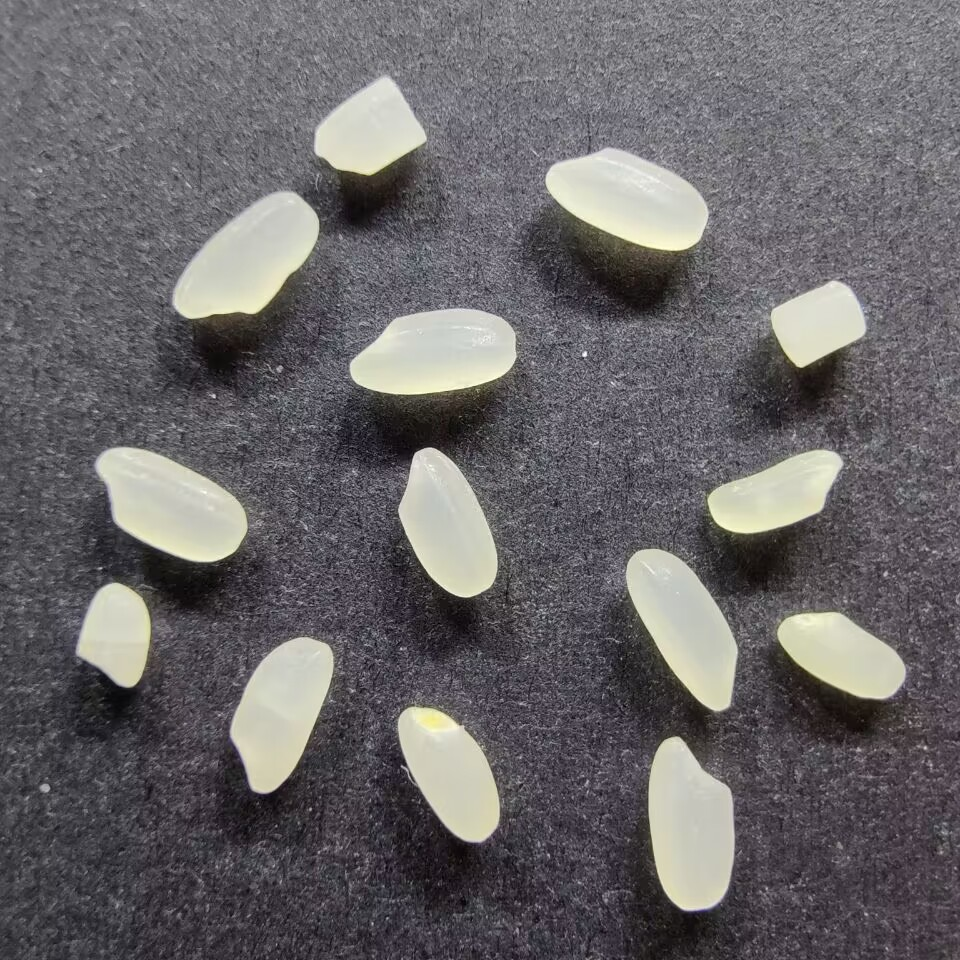broken: (311, 73, 428, 178), (768, 279, 869, 369), (74, 581, 151, 689)
rice: (623, 547, 741, 713), (171, 189, 320, 320), (94, 445, 248, 564), (226, 634, 335, 795), (543, 146, 708, 252), (645, 734, 737, 913), (394, 446, 498, 599), (347, 307, 517, 396), (394, 705, 502, 843), (705, 448, 846, 535), (774, 610, 908, 701)
